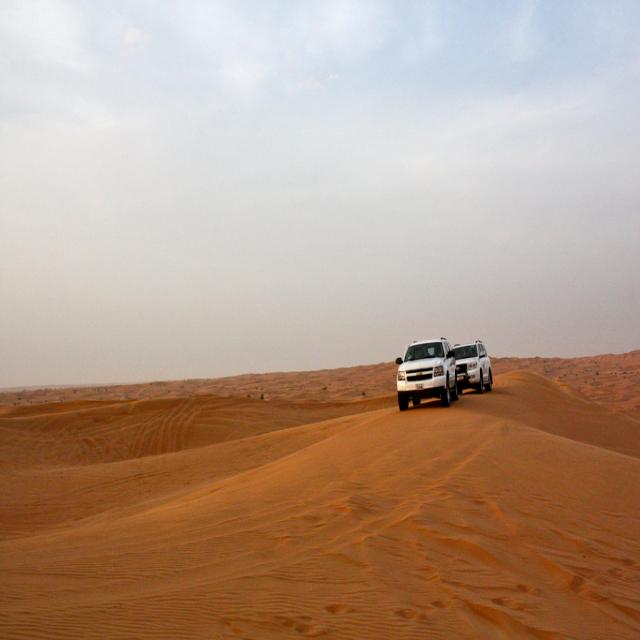car: (393, 334, 463, 408)
